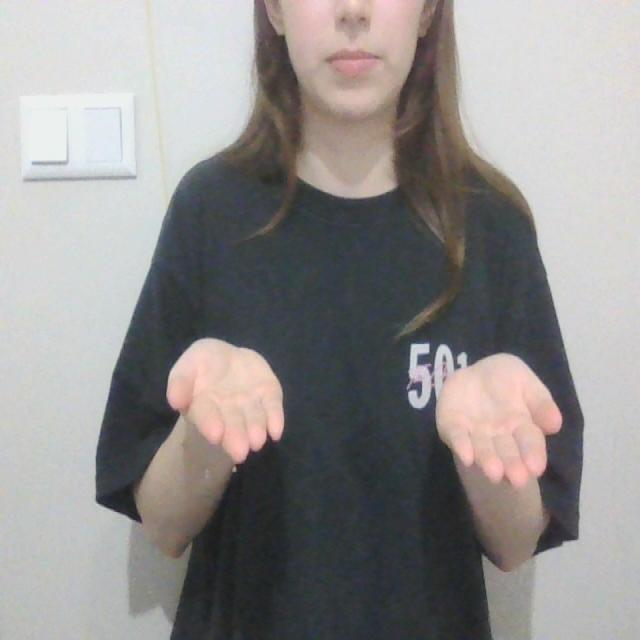Evet: (163, 328, 569, 497)
